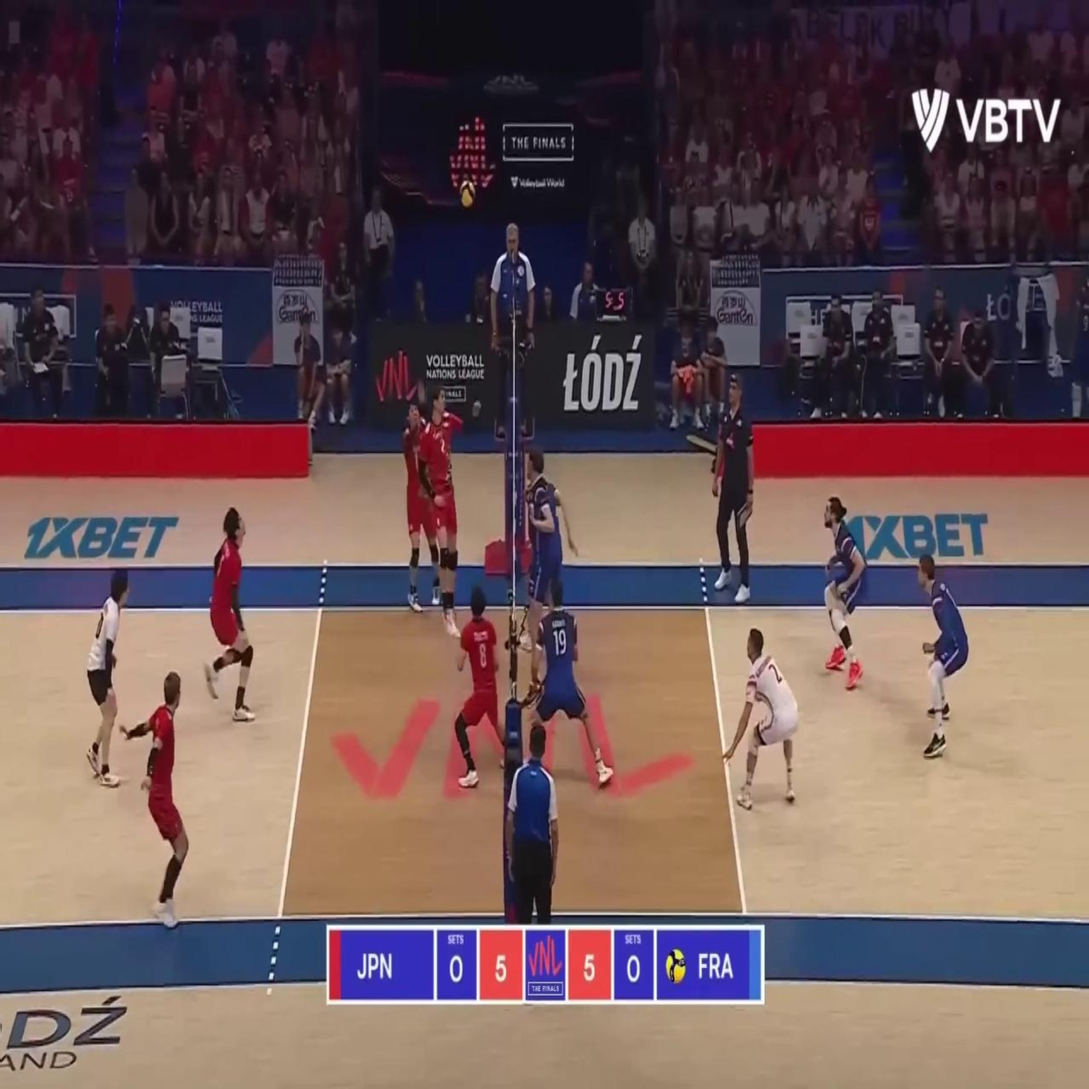ball: (459, 180, 474, 207)
